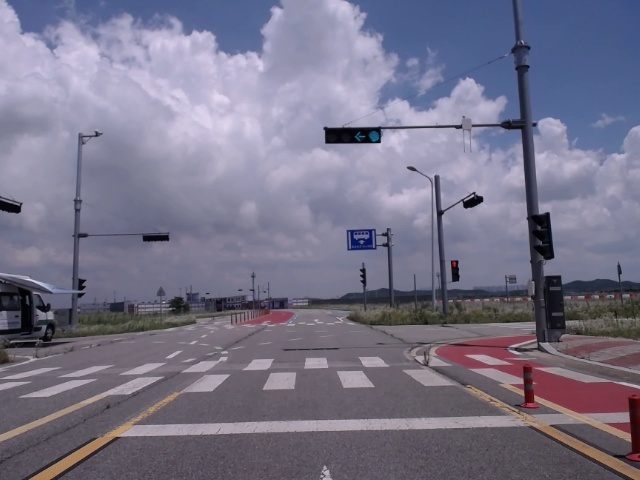all_green_4: (325, 127, 380, 142)
